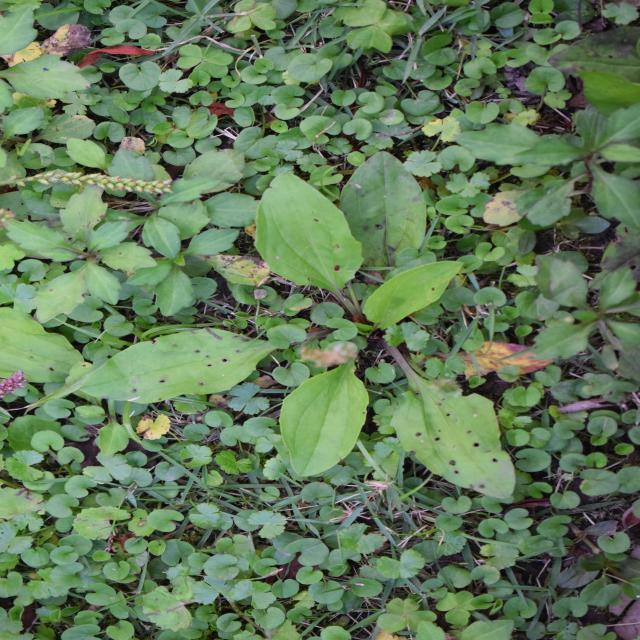plantain: (150, 102, 478, 477)
